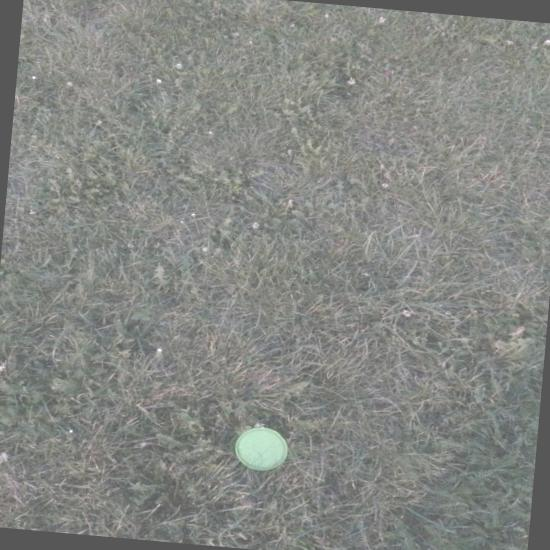Plastic bottle cap: (235, 427, 288, 470)
